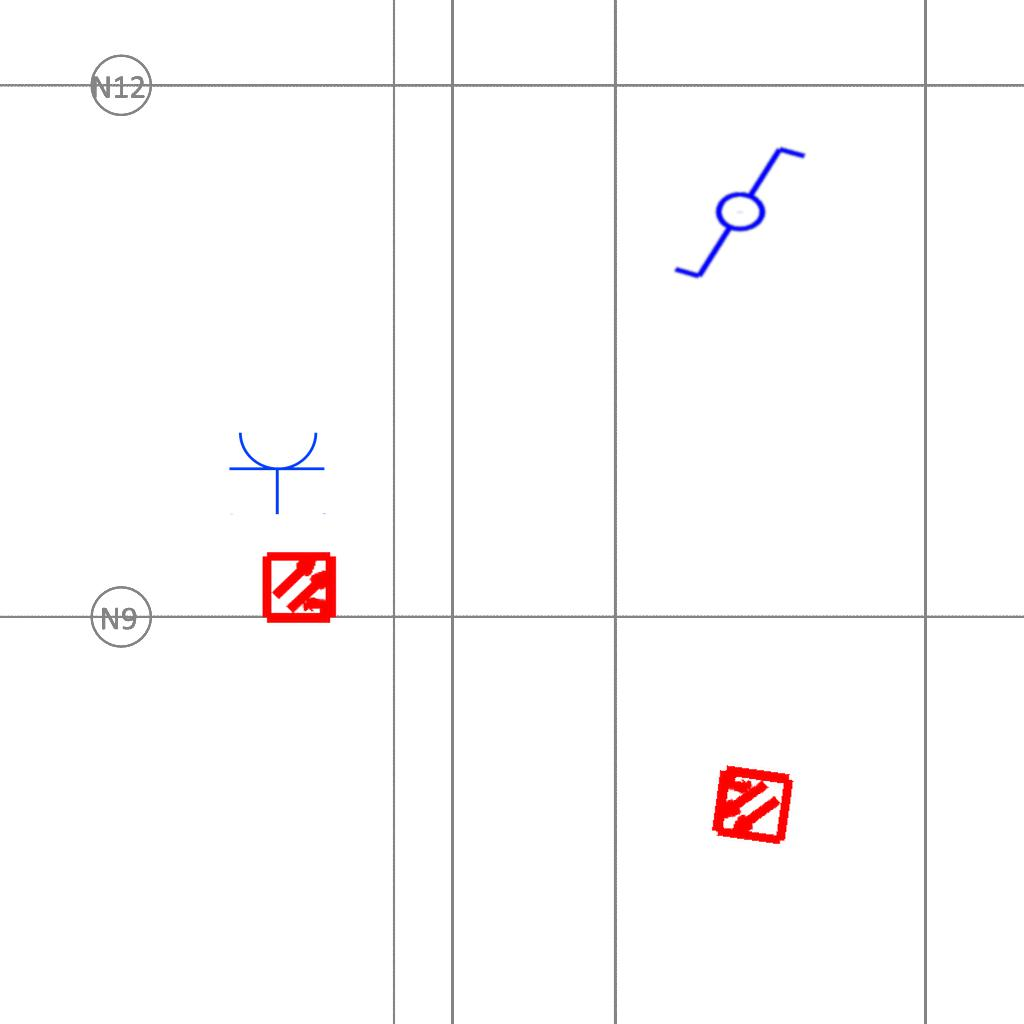OT_Multisensormelder_(Kombination_RMO_WMD): (686, 740, 815, 869), (245, 531, 358, 644)
Schukosteckdose_einfach: (228, 428, 328, 515)
Wechselschalter: (670, 142, 827, 286)
